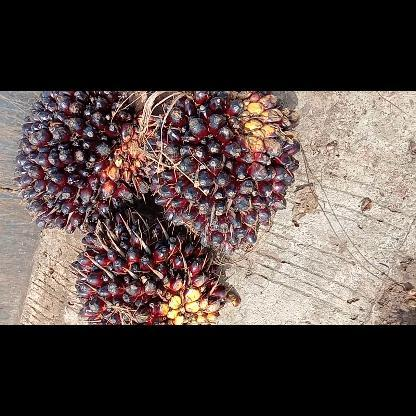TBS mentah: (145, 90, 303, 258), (67, 207, 245, 324), (14, 90, 156, 235)
